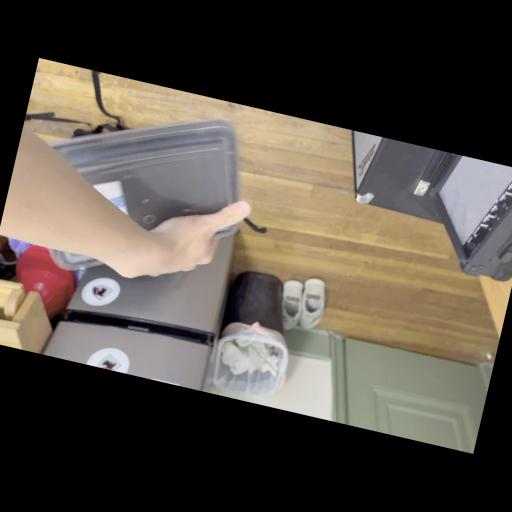rigid_plastic_container: (18, 90, 268, 310)
